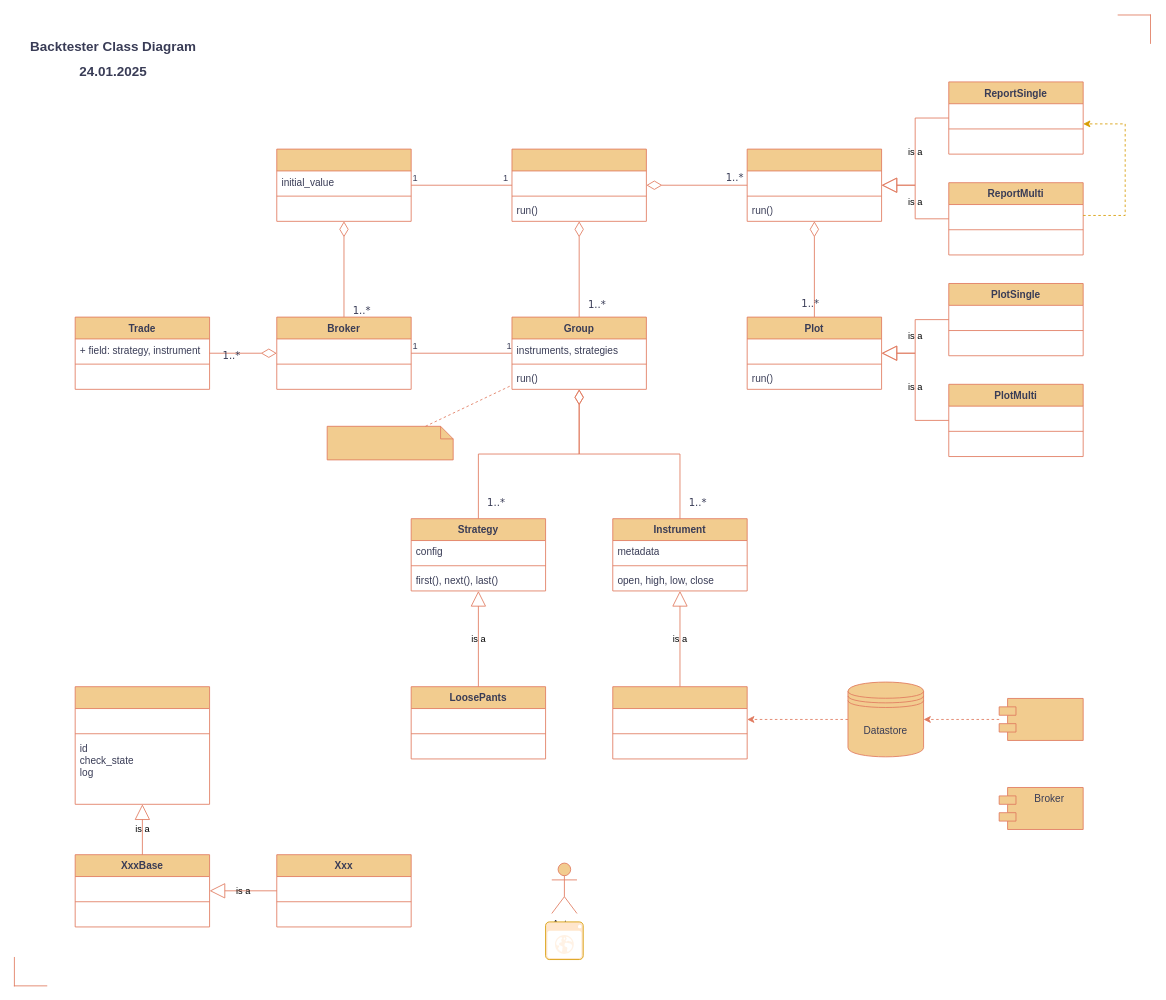
This 1166x1000 diagram has some shape labels left out. Each missing label, with the box of its shape:
Backtester: (511, 148, 646, 221)
Base: (74, 686, 210, 804)
Data Feed: (998, 698, 1083, 740)
Future: (612, 686, 747, 759)
Next loop is called here: (326, 425, 453, 460)
Portfolio: (276, 148, 411, 221)
Report: (746, 148, 882, 221)
Web UI: (545, 921, 583, 960)
